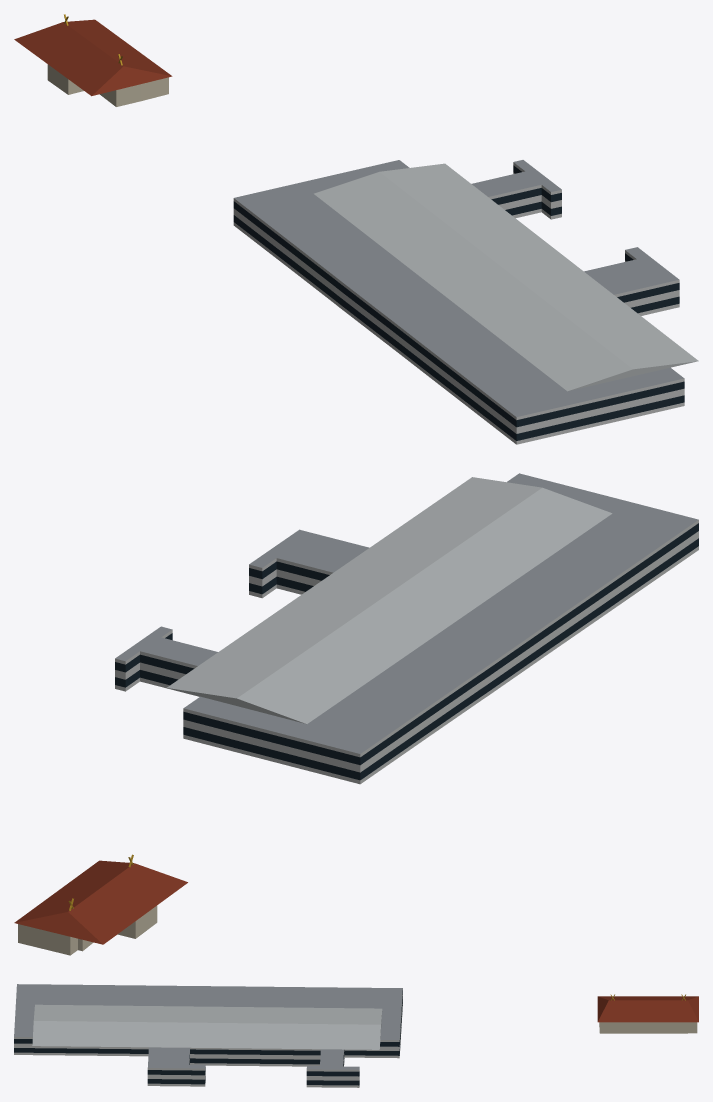
Rendered from bandara-terminal-lod0.glb.
3 renders of one model, top to bottom at view 1: azimuth 30°, elevation 25°; view 2: azimuth 150°, elevation 25°; view 3: azimuth 270°, elevation 25°, orthographic. The views are drawn at different scales.
Visible parts, largest first — view 1: bandara-terminal_LOD0; view 2: bandara-terminal_LOD0; view 3: bandara-terminal_LOD0.
Part boxes in pixels (bbox=[...]): bandara-terminal_LOD0: bbox=[14, 14, 698, 444]; bandara-terminal_LOD0: bbox=[14, 473, 698, 955]; bandara-terminal_LOD0: bbox=[14, 984, 698, 1087].
Bounding box in the file's own units: 122 × 17.84 × 414.
